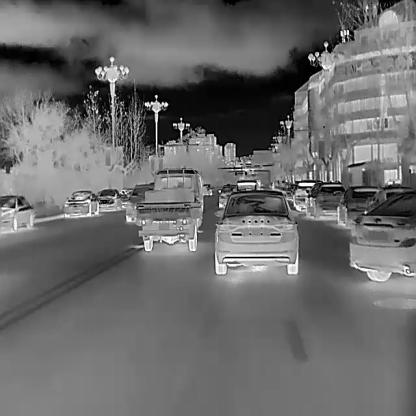car: (214, 188, 298, 274), (350, 187, 414, 282), (336, 184, 378, 226), (304, 180, 345, 220), (0, 193, 34, 231), (125, 184, 155, 221), (63, 189, 99, 218), (292, 179, 318, 210), (95, 188, 121, 210), (218, 184, 238, 208), (118, 187, 134, 206), (235, 179, 260, 191), (202, 183, 212, 195)
truck: (138, 167, 203, 251)
